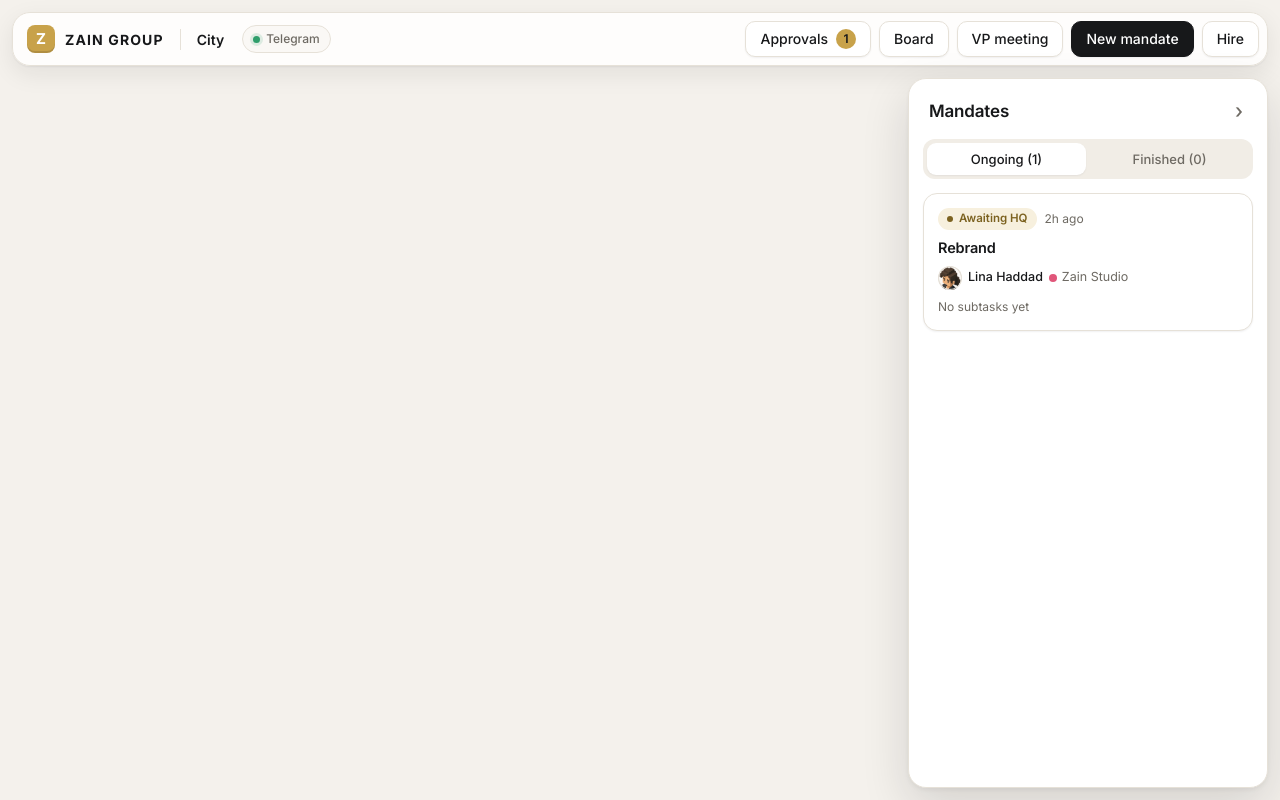
Scenario: BoardPanel › opens from the HUD Board button
Step 1. Click the button "Board" → (914, 39), box top-left (879, 21), bottom-right (948, 57)
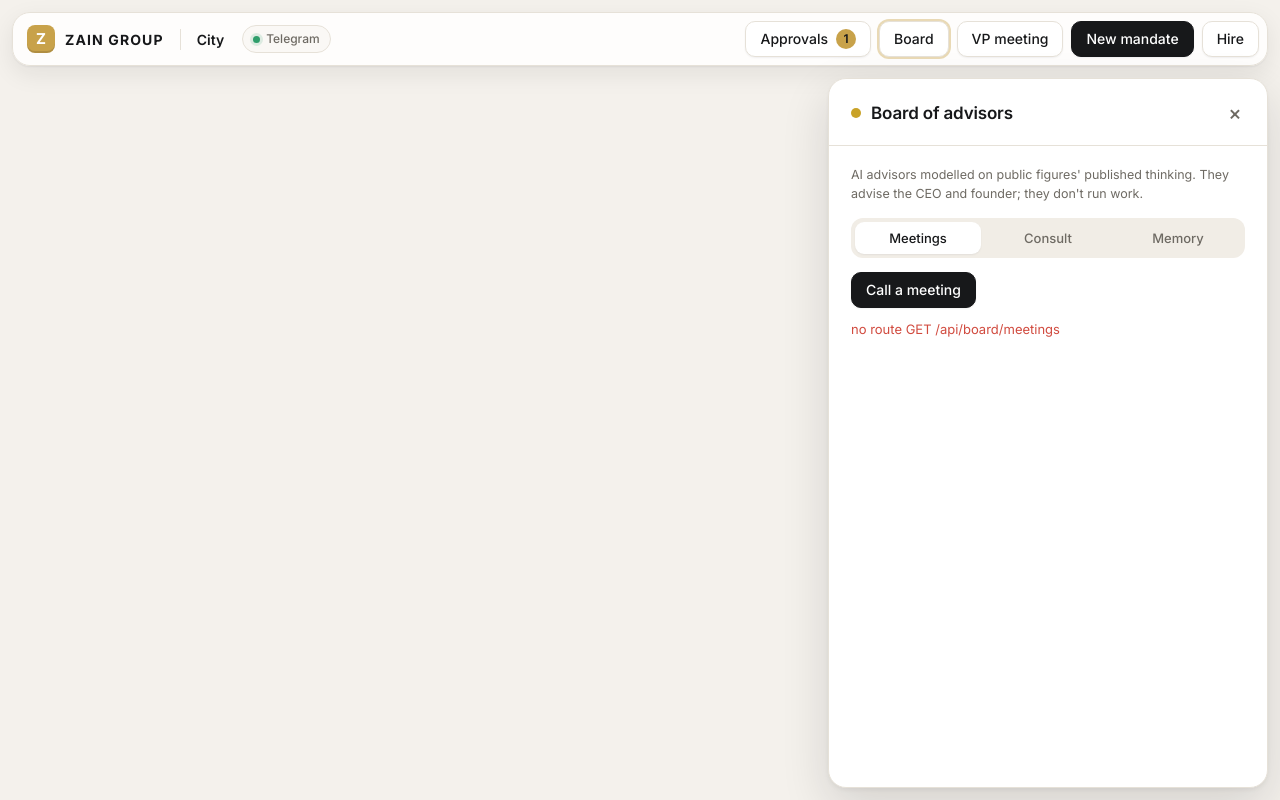
Expected: the heading "Board of advisors" is shown, top-left (871, 103), bottom-right (1013, 123)
